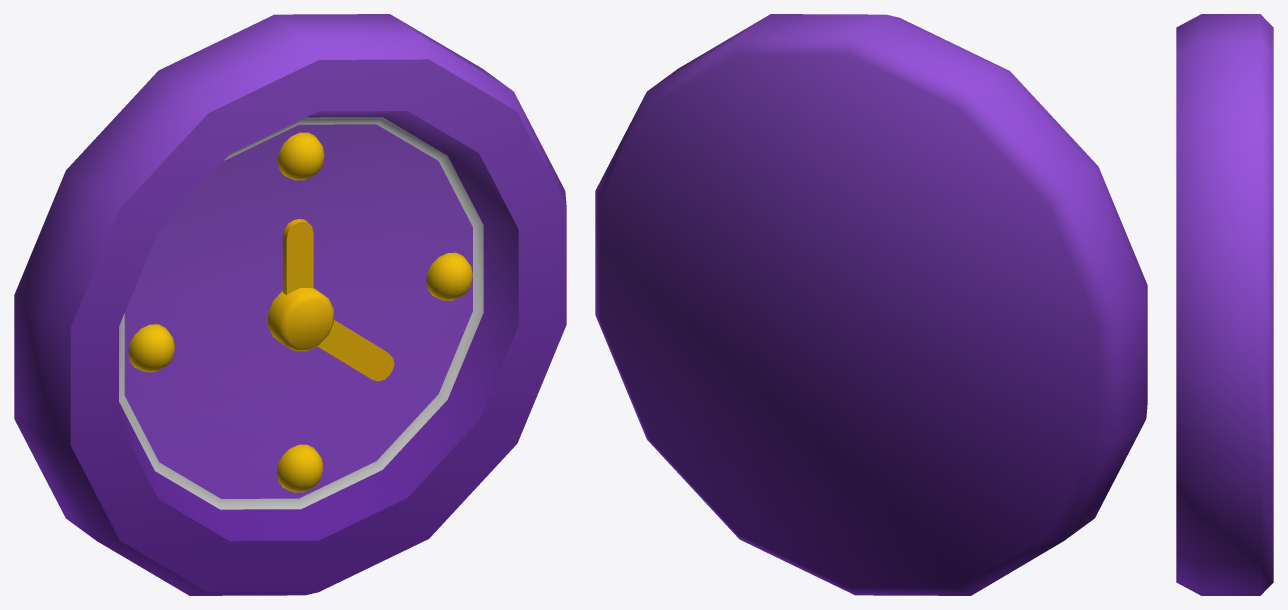
The model's file is Clock_1.fbx.
The picture shows the model from 3 angles, left to right: view 1: azimuth 30°, elevation 25°; view 2: azimuth 150°, elevation 25°; view 3: azimuth 270°, elevation 25°; orthographic projection. The views are drawn at different scales.
Visible parts, largest first — view 1: Clock_1, Clock_1 Attach_2, Clock_1 Attach_1; view 2: Clock_1; view 3: Clock_1.
Boxes of the visible parts, x1,y1,x2,y2 form: Clock_1: [14, 14, 566, 595]; Clock_1 Attach_2: [317, 320, 394, 381]; Clock_1 Attach_1: [283, 219, 313, 295]; Clock_1: [595, 14, 1147, 595]; Clock_1: [1176, 14, 1273, 595].
Size of the model in its own units: 0.3943 by 0.4044 by 0.0675.
